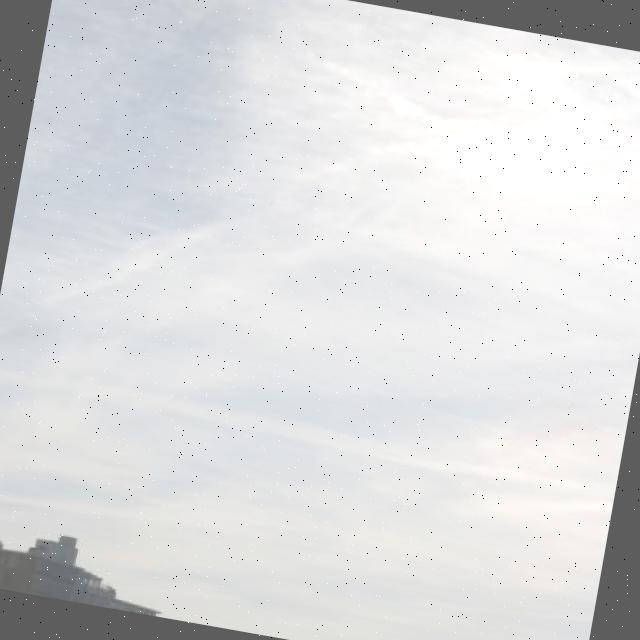Ct: (1, 31, 640, 621)
